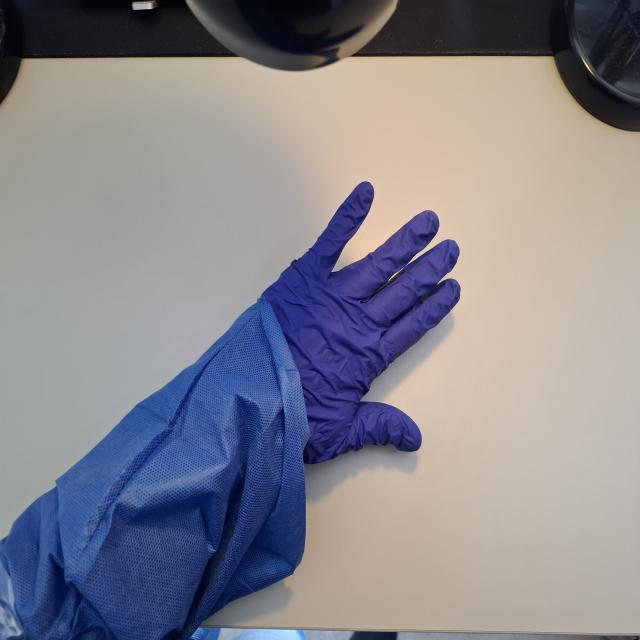glove_on: (228, 177, 464, 467)
